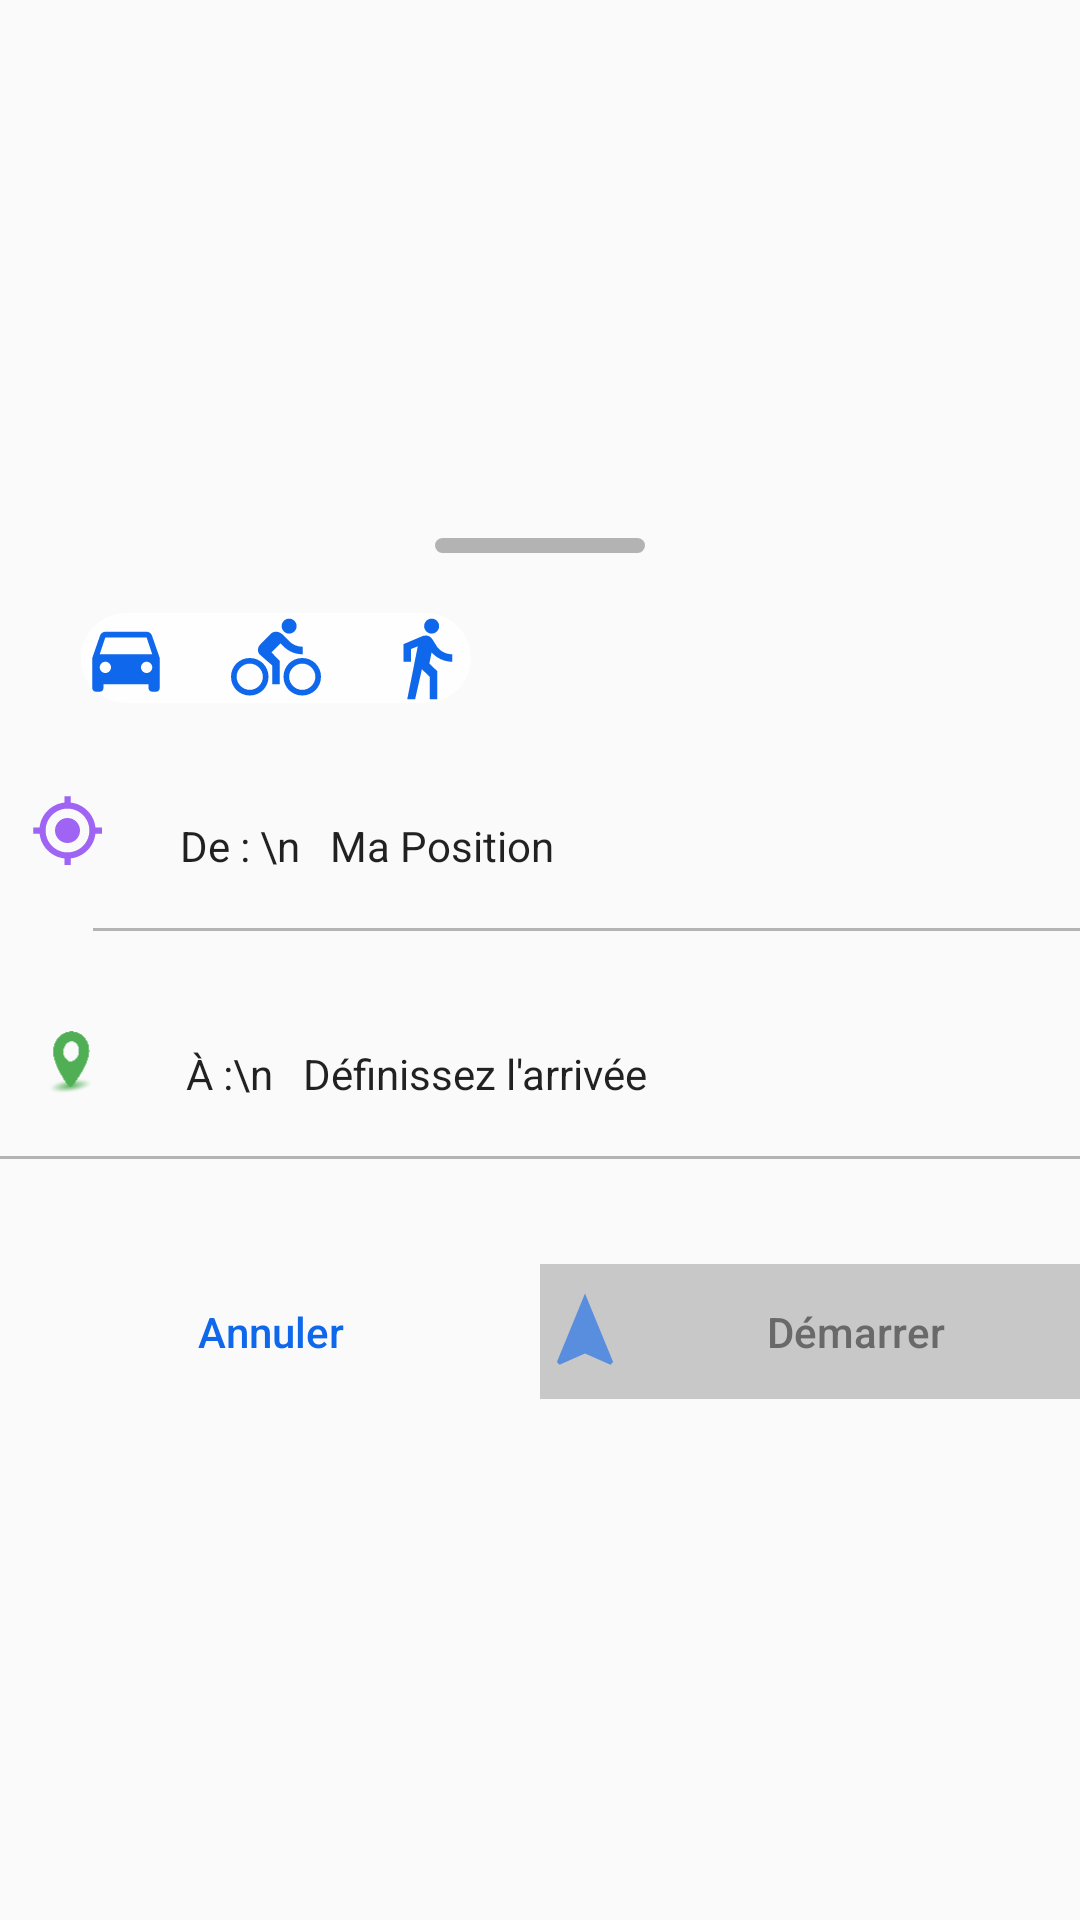

Locate icon controls on the screen. Image size 1080 x 1920, boxes as (x1, y1, x2, y2).
directions bike: (231, 618, 321, 696)
directions car: (92, 631, 160, 692)
directions walk: (403, 618, 453, 700)
location: (33, 796, 102, 865)
